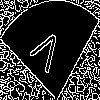V: (25, 25, 65, 81)
